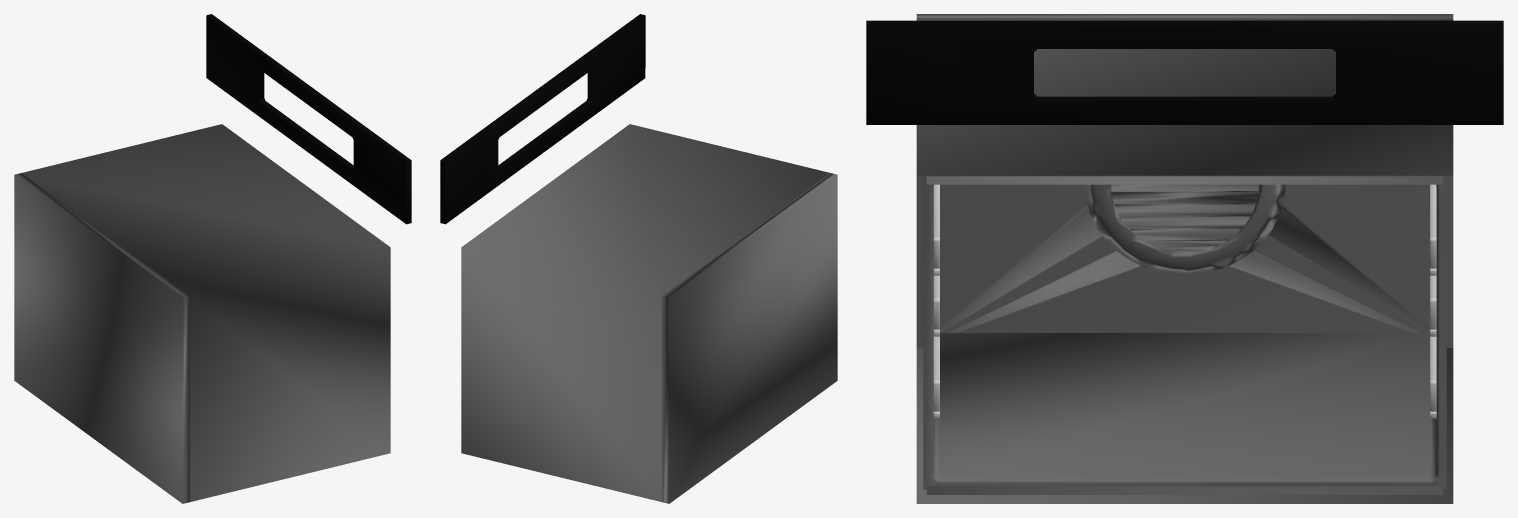
The model's file is ovenWithoutDoor.fbx.
The picture shows the model from 3 angles, left to right: view 1: azimuth 30°, elevation 25°; view 2: azimuth 150°, elevation 25°; view 3: azimuth 270°, elevation 25°; orthographic projection. The views are drawn at different scales.
Visible parts, largest first — view 1: Original; view 2: Original; view 3: Original.
Boxes of the visible parts, x1,y1,x2,y2 form: Original: (14, 14, 411, 503); Original: (440, 14, 837, 503); Original: (866, 14, 1503, 503).
Bounding box in the file's own units: 51.22 × 69.6 × 83.17.
